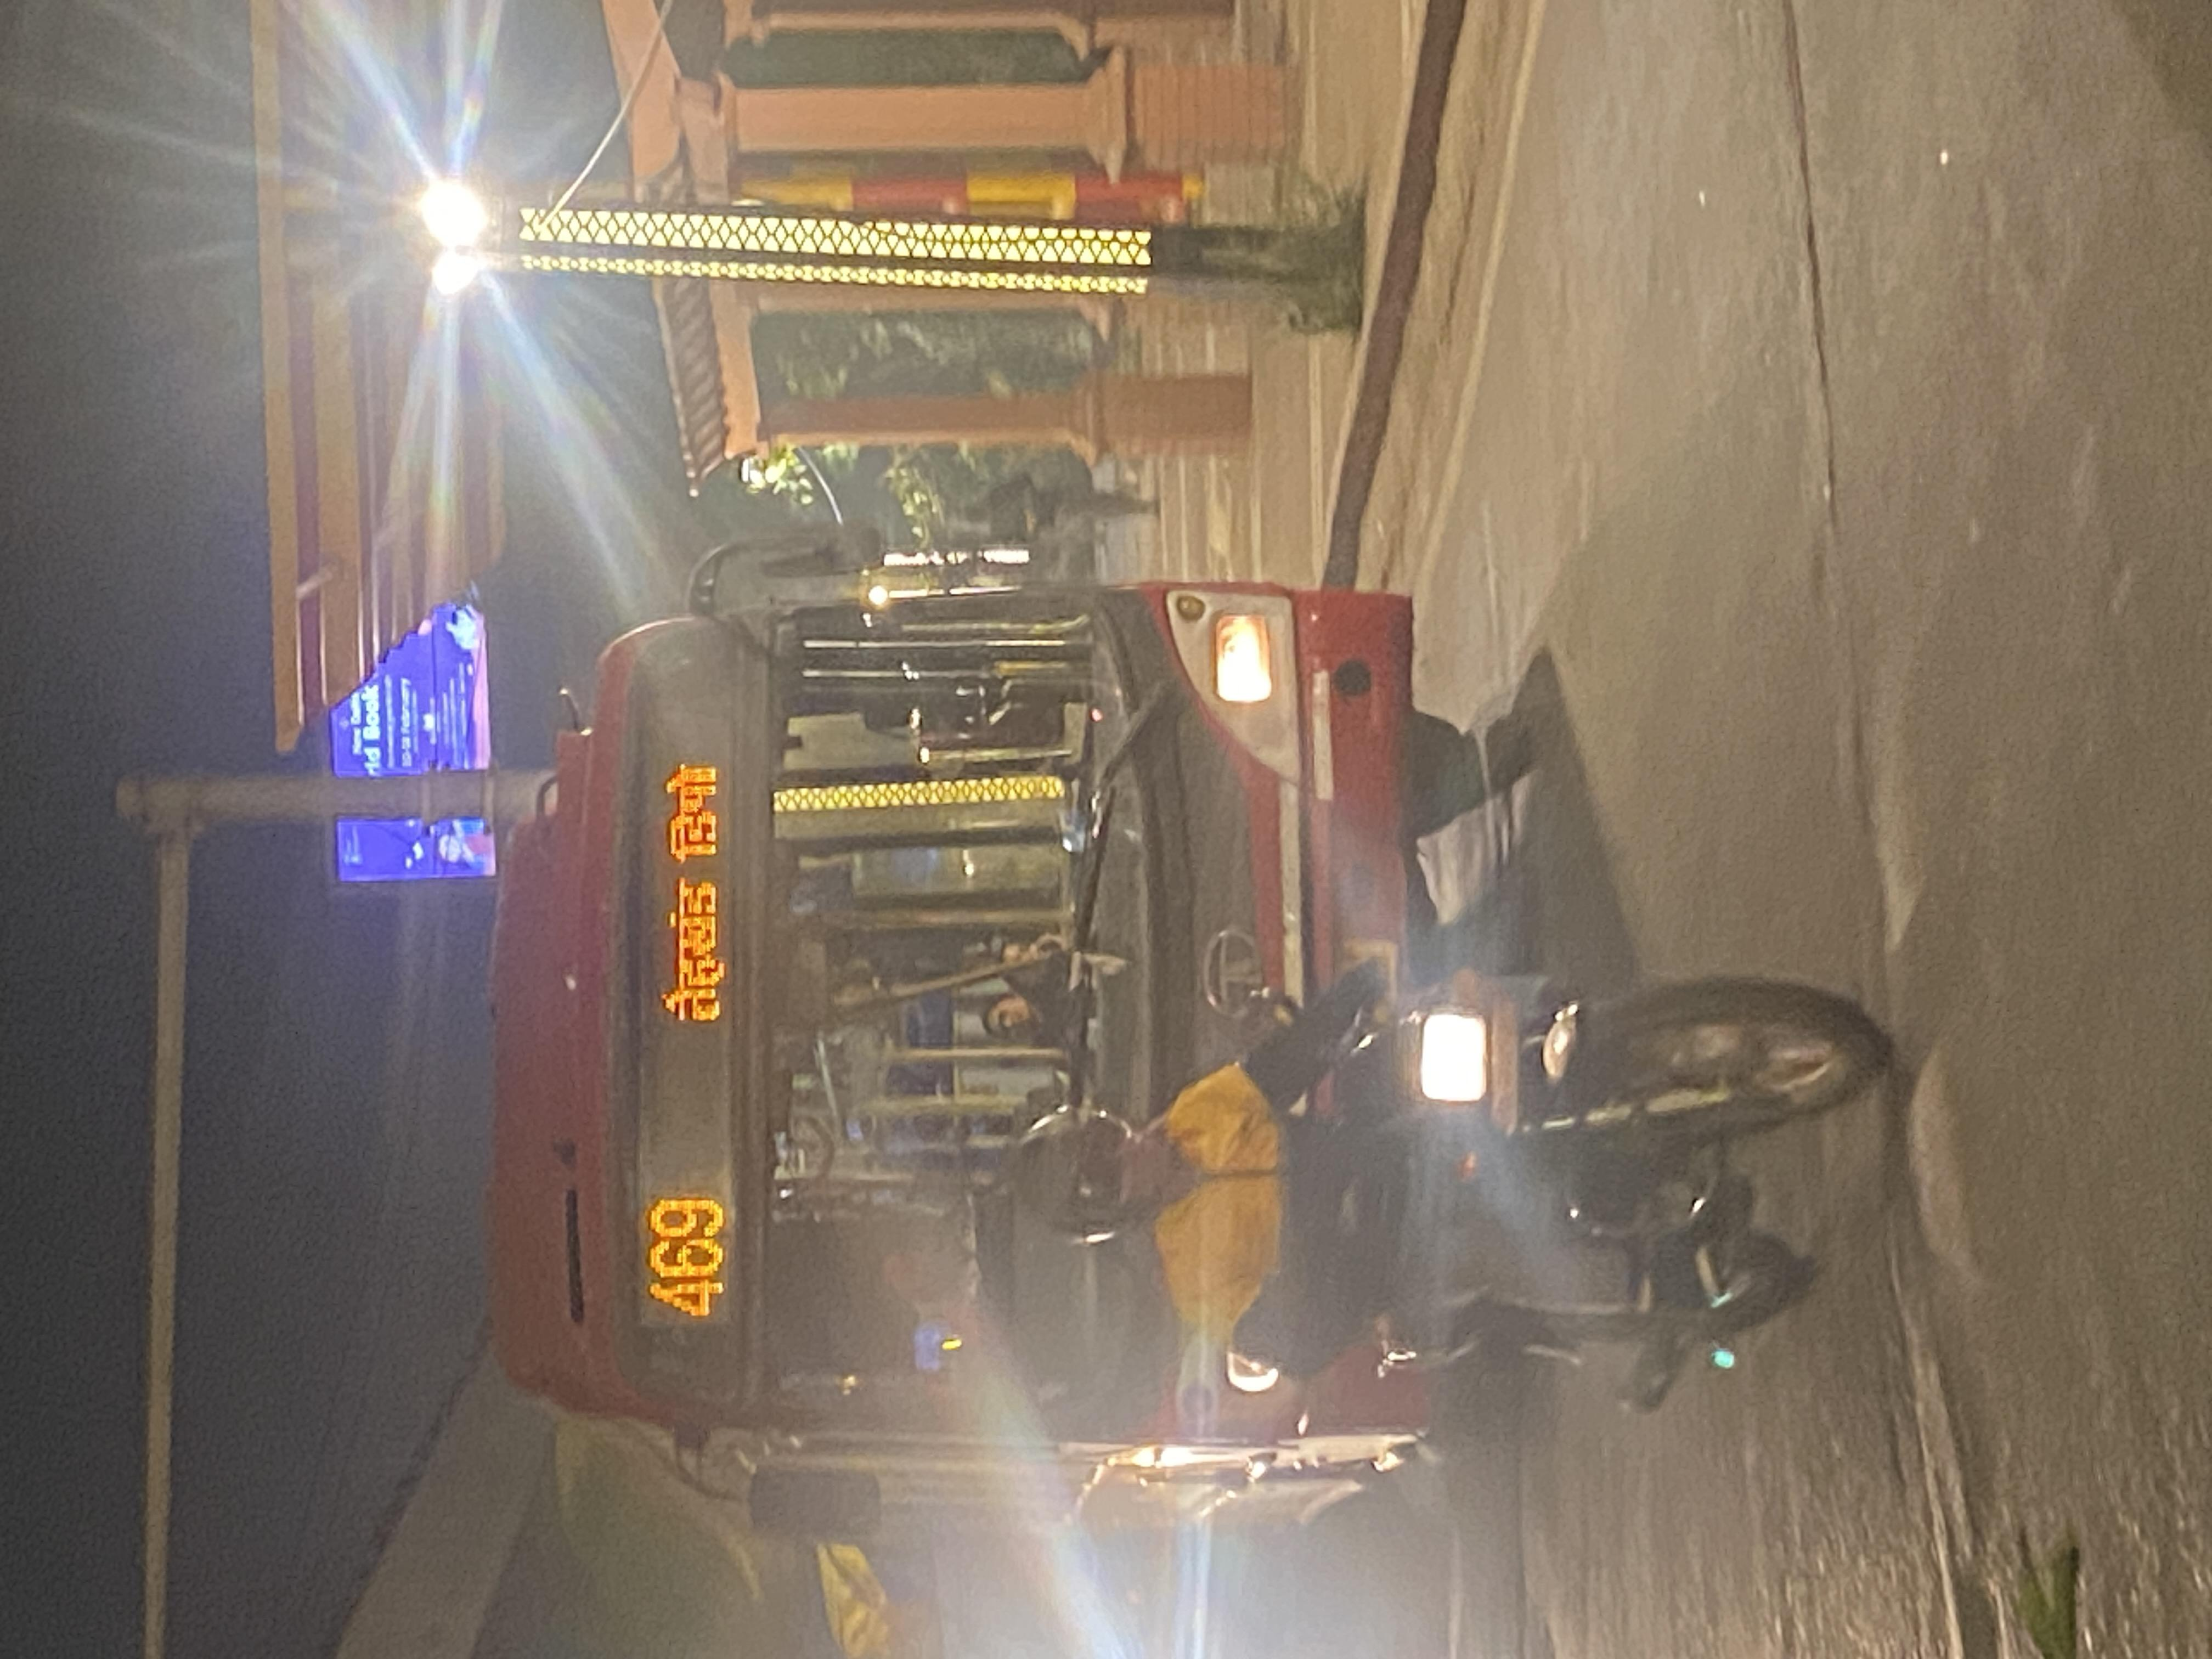Bus: (462, 587, 1503, 1497)
Display Board: (582, 636, 784, 1349)
